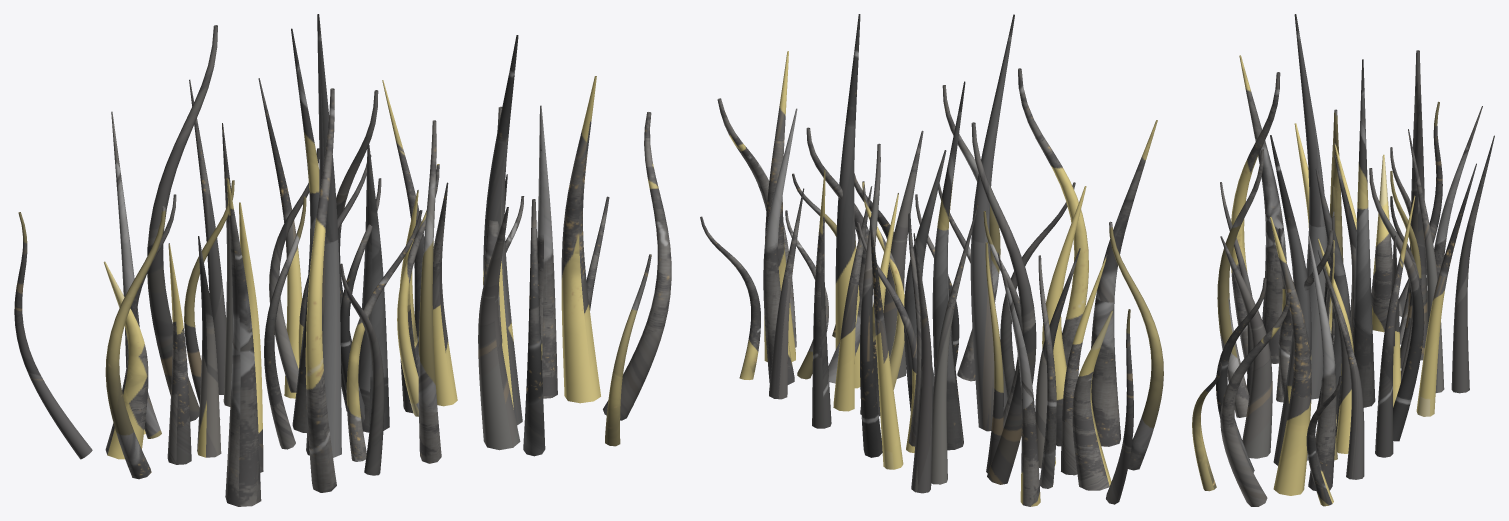
File: HERBE 1.fbx
The picture shows the model from 3 angles, left to right: view 1: azimuth 30°, elevation 25°; view 2: azimuth 150°, elevation 25°; view 3: azimuth 270°, elevation 25°; orthographic projection. The views are drawn at different scales.
Parts seen in each view (by area): view 1: sweep42; view 2: sweep42; view 3: sweep42.
Part boxes in pixels (<box>): sweep42: <box>14,14,671,506</box>; sweep42: <box>700,14,1163,506</box>; sweep42: <box>1192,14,1494,506</box>.
Size of the model in its own units: 9.44 by 7.65 by 5.43.
